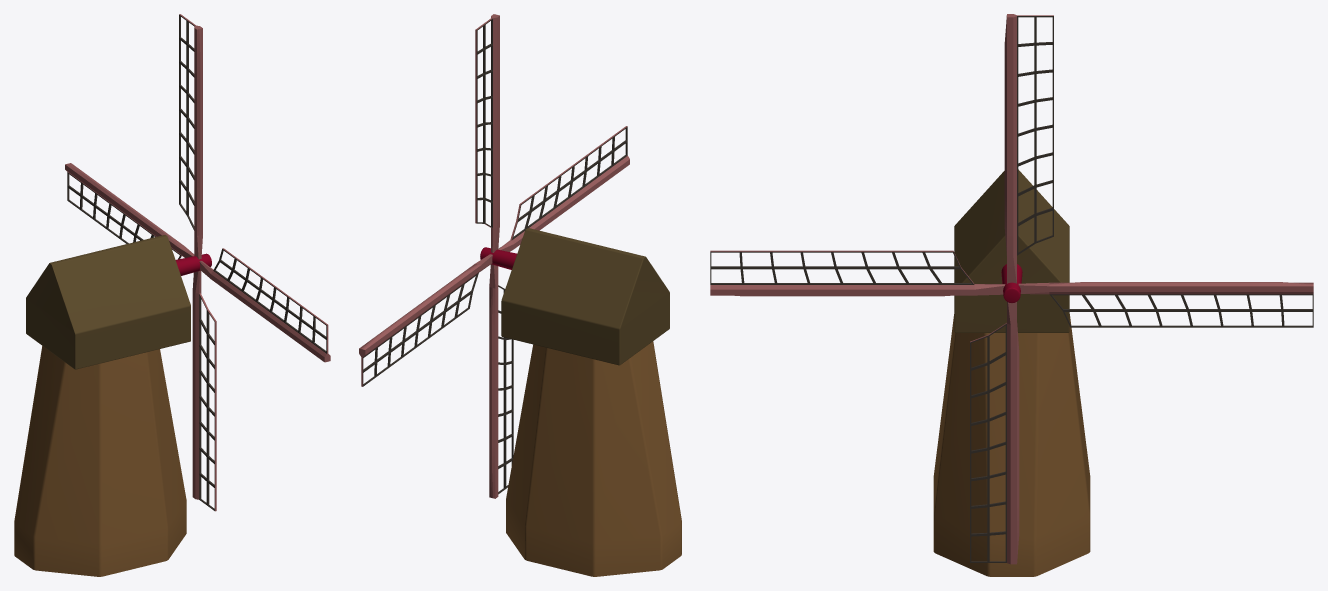
File: Mill.fbx
3 renders of one model, left to right at view 1: azimuth 30°, elevation 25°; view 2: azimuth 150°, elevation 25°; view 3: azimuth 270°, elevation 25°, orthographic. The views are drawn at different scales.
Visible parts, largest first — view 1: Building, Mill; view 2: Building, Mill; view 3: Building, Mill.
Boxes of the visible parts, x1,y1,x2,y2 form: Building: [14, 235, 190, 576]; Mill: [65, 14, 330, 511]; Building: [501, 228, 681, 576]; Mill: [359, 14, 629, 498]; Building: [933, 169, 1090, 576]; Mill: [710, 14, 1313, 564].
Size of the model in its own units: 12.6 by 32.06 by 30.6.
